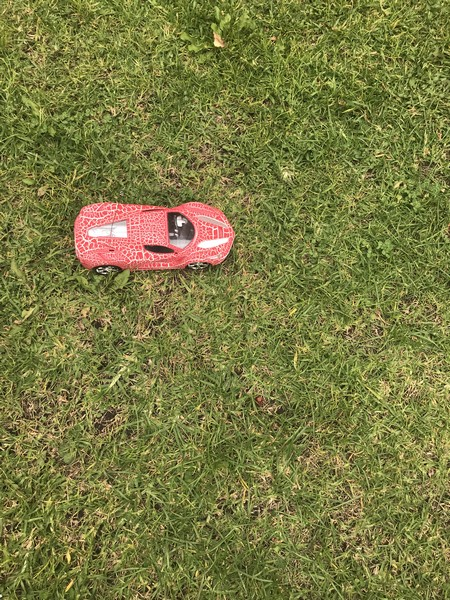RC: (74, 199, 238, 275)
